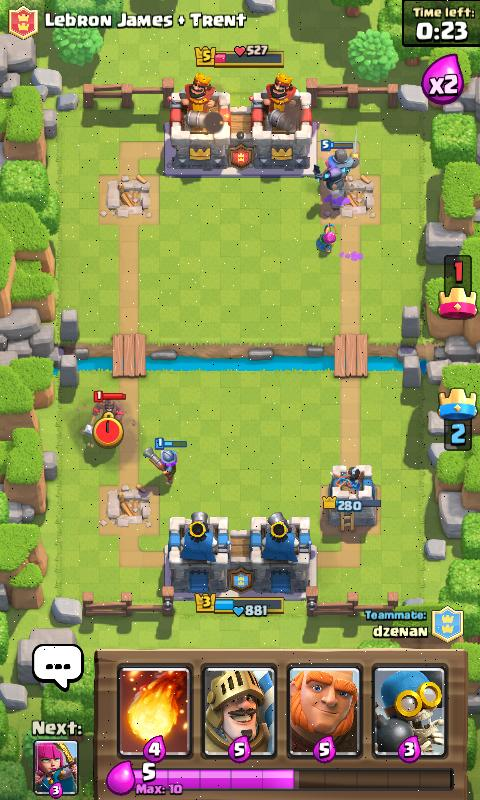EHogRider: (85, 391, 125, 435)
EKingTower: (169, 82, 230, 171), (244, 89, 310, 170)
OArcher: (317, 224, 336, 255)
OKnight: (326, 142, 358, 170)
OMiniPekka: (314, 165, 351, 191)
OMusk: (143, 447, 175, 483)
OwnKingTower: (165, 513, 229, 592), (250, 513, 310, 593)
OwnPrincessTower: (323, 465, 380, 530)
TowerDown: (320, 170, 380, 223), (100, 174, 159, 225), (99, 484, 158, 534)
